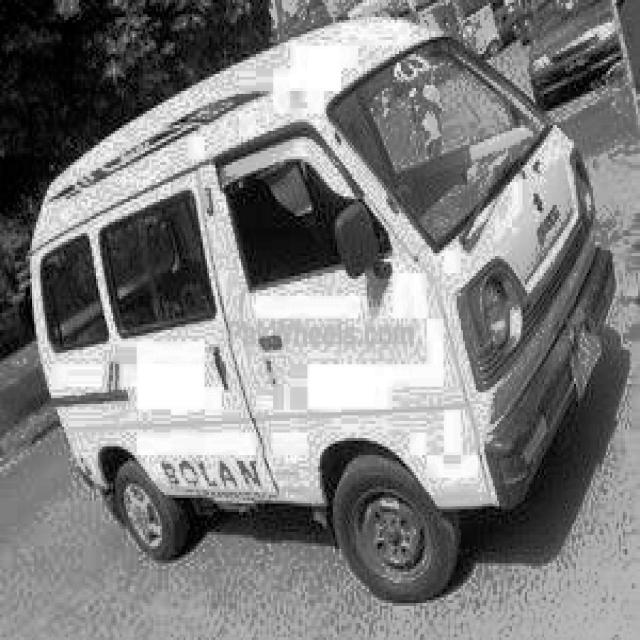LCV: (30, 14, 619, 606)
